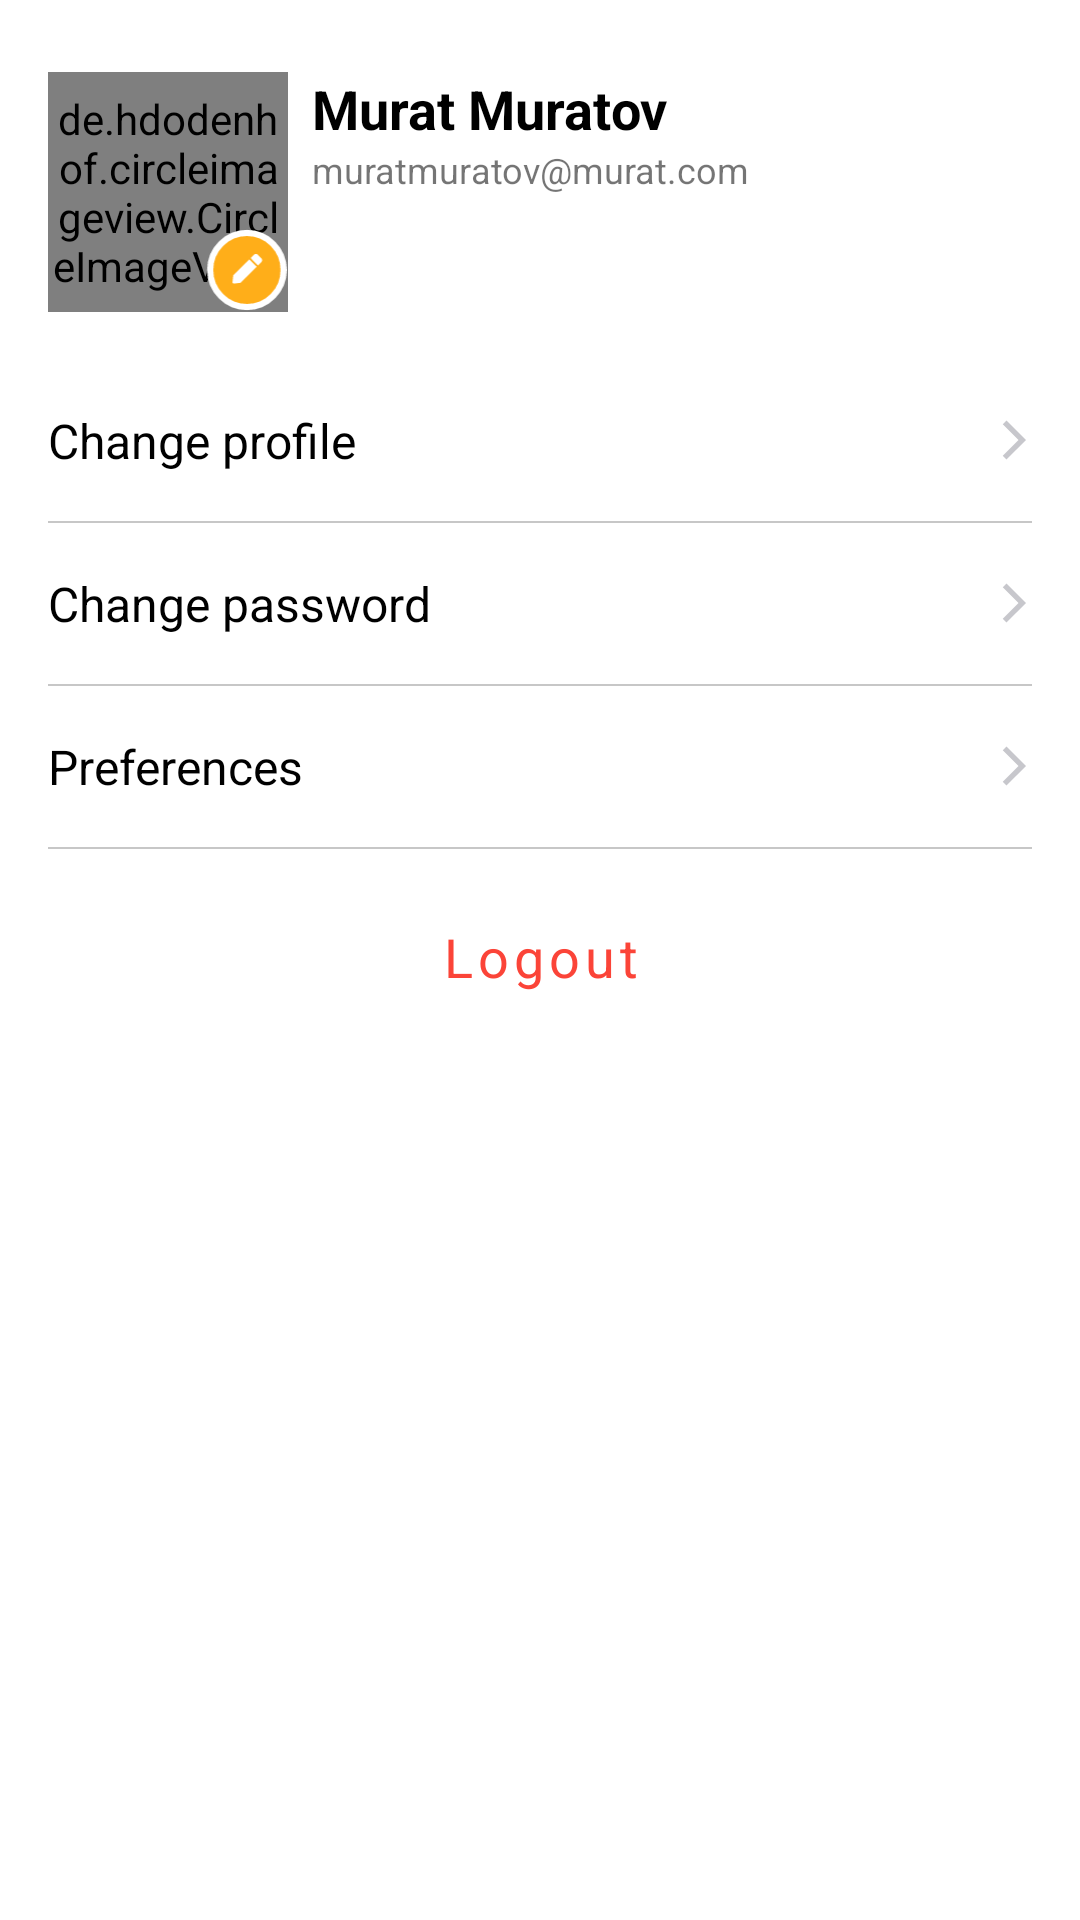

Icon click points for this 1080x1920 phone screenshot, format point (x, y):
pen circle: point (246, 270)
